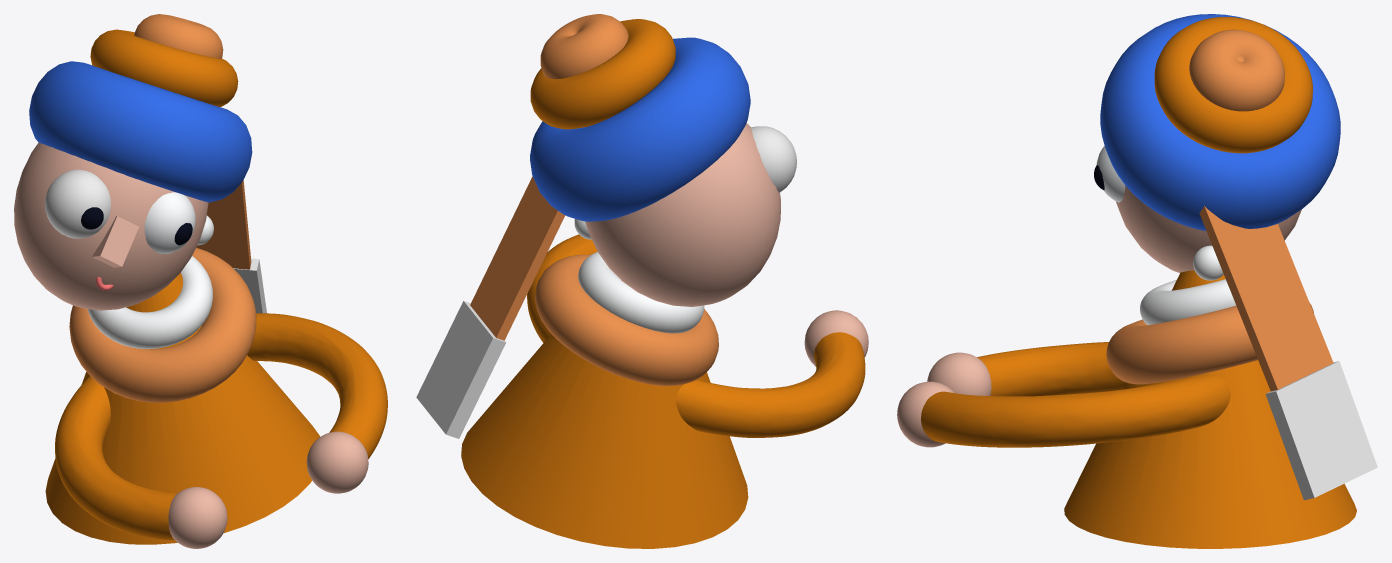
File: girlspark2.fbx
3 renders of one model, left to right at view 1: azimuth 30°, elevation 25°; view 2: azimuth 150°, elevation 25°; view 3: azimuth 270°, elevation 25°, orthographic. The views are drawn at different scales.
Visible parts, largest first — view 1: 锥体, 环体.005, 环体.003, 球体, 环体.014, 环体.001, 环体.002, 球体.002, 球体.007, 球体.006, 立方体.001, 环体.012 (+3 smaller); view 2: 锥体, 环体.005, 球体, 环体.003, 环体.014, 环体.001, 立方体.001, 立方体.002, 环体.002, 环体.012, 球体.002, 球体.006; view 3: 锥体, 环体.005, 环体.003, 立方体.001, 环体.001, 立方体.002, 环体.014, 环体.012, 球体, 环体.002, 球体.006, 球体.007 (+2 smaller).
Part boxes in pixels (box(x1,y1,x2,y2)): 锥体: box(45, 273, 319, 544); 环体.005: box(29, 61, 252, 202); 环体.003: box(55, 313, 387, 540); 球体: box(14, 142, 208, 310); 环体.014: box(69, 247, 256, 402); 环体.001: box(90, 29, 238, 106); 环体.002: box(87, 256, 212, 349); 球体.002: box(45, 169, 110, 238); 球体.007: box(306, 431, 368, 493); 球体.006: box(168, 487, 227, 548); 立方体.001: box(196, 180, 251, 269); 环体.012: box(134, 14, 223, 58); 锥体: box(461, 334, 748, 548); 环体.005: box(530, 37, 750, 221); 球体: box(585, 123, 780, 306); 环体.003: box(527, 234, 865, 437); 环体.014: box(535, 254, 718, 385); 环体.001: box(530, 19, 675, 129); 立方体.001: box(470, 176, 565, 340); 立方体.002: box(416, 301, 506, 438); 环体.002: box(578, 252, 704, 333); 环体.012: box(540, 14, 628, 79); 球体.002: box(751, 126, 796, 192); 球体.006: box(804, 310, 868, 366); 锥体: box(1064, 270, 1356, 548); 环体.005: box(1100, 14, 1340, 230); 环体.003: box(921, 342, 1230, 447); 立方体.001: box(1199, 205, 1333, 391); 环体.001: box(1154, 17, 1312, 153); 立方体.002: box(1265, 361, 1377, 500); 环体.014: box(1106, 302, 1313, 384); 环体.012: box(1189, 29, 1284, 111); 球体: box(1116, 186, 1301, 272); 环体.002: box(1140, 279, 1236, 325); 球体.006: box(927, 352, 991, 395); 球体.007: box(897, 381, 954, 447).
Bounding box in the file's own units: 358 × 534 × 467.
